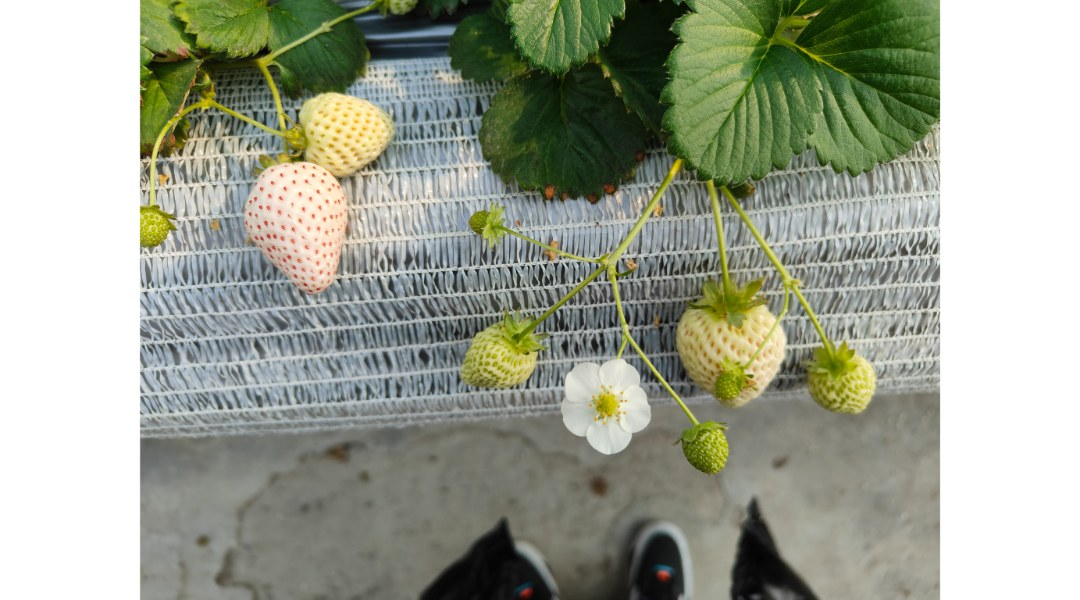berry: (235, 159, 361, 302), (666, 280, 780, 409), (282, 85, 404, 169), (455, 312, 540, 400), (801, 340, 884, 414), (110, 190, 172, 262), (673, 412, 739, 479), (705, 359, 753, 409), (460, 201, 516, 238)
flower: (556, 353, 656, 465)
strain: (724, 188, 840, 363), (604, 149, 679, 258), (634, 330, 696, 434), (278, 6, 382, 67), (137, 99, 195, 192), (525, 271, 599, 340), (703, 179, 735, 302), (499, 228, 592, 266), (207, 103, 277, 144), (610, 272, 627, 332)
